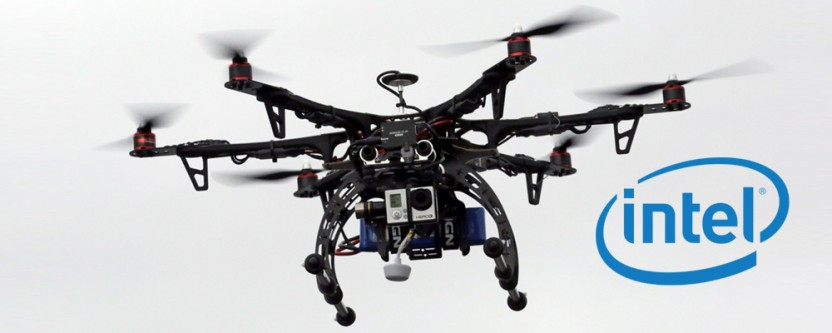drone: (86, 4, 774, 329)
